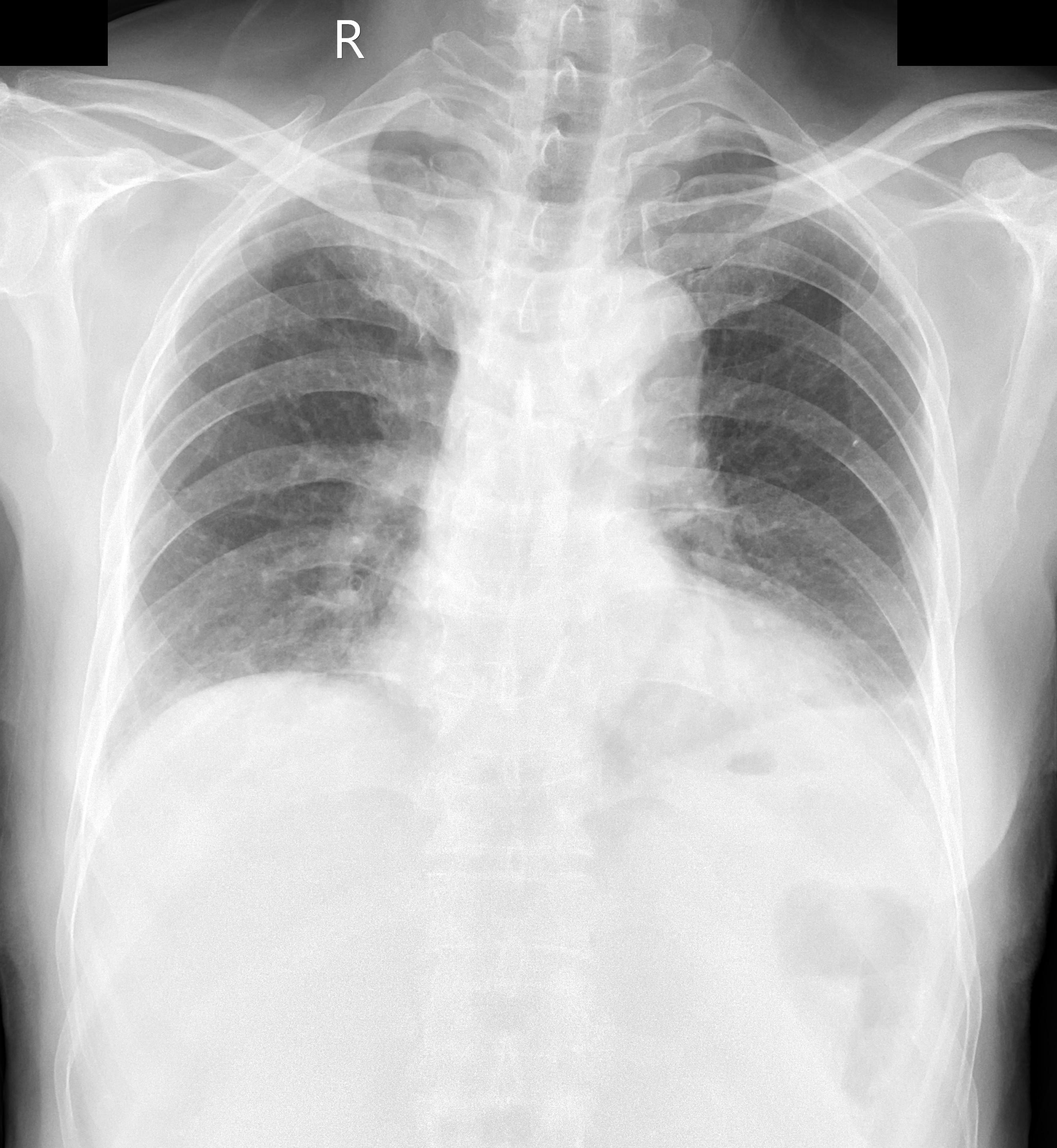Aortic enlargement: (574, 264, 706, 411)
Cardiomegaly: (351, 613, 869, 737)
Pleural thickening: (894, 664, 939, 776)
